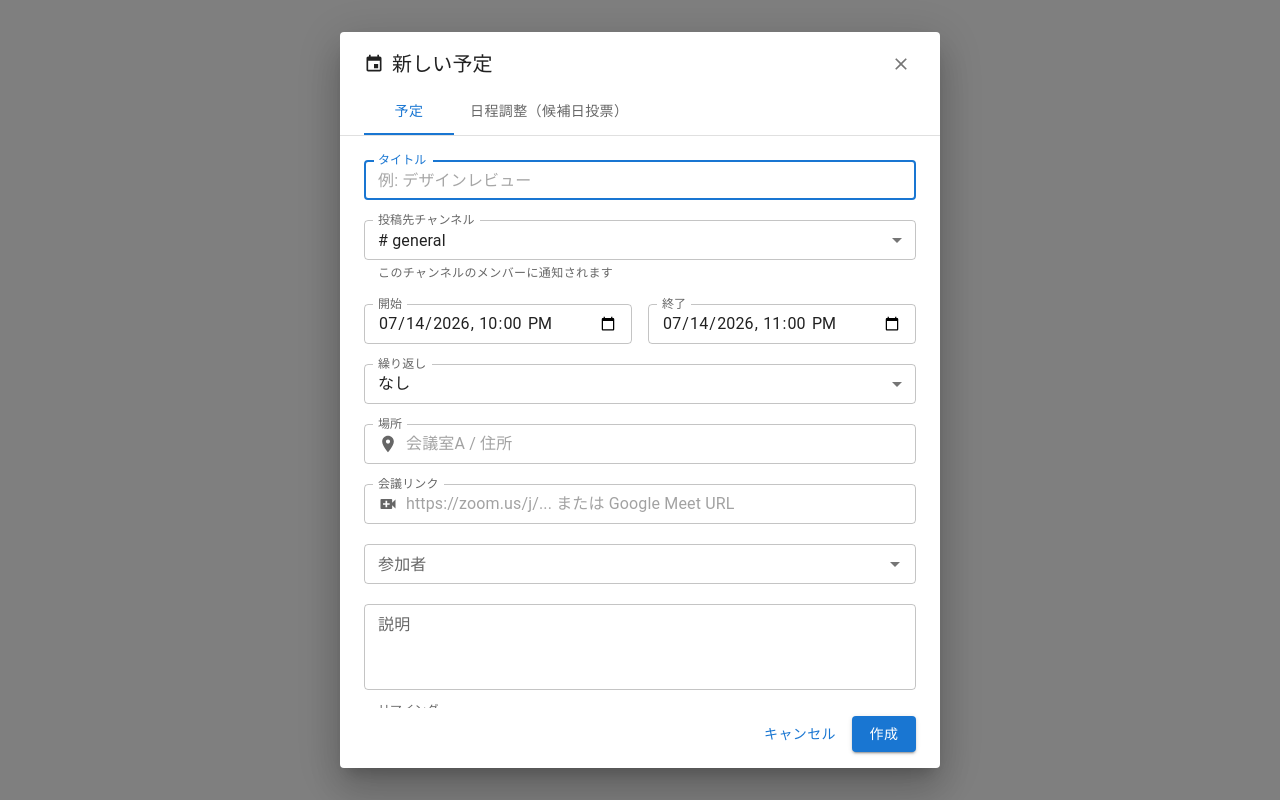
EventDialog › タブ切替 › 「日程調整」タブに切り替えると候補日リストと締切が表示される
Click the tab with aria-label "poll-tab". click: (549, 112)
box: [454,88,644,136]
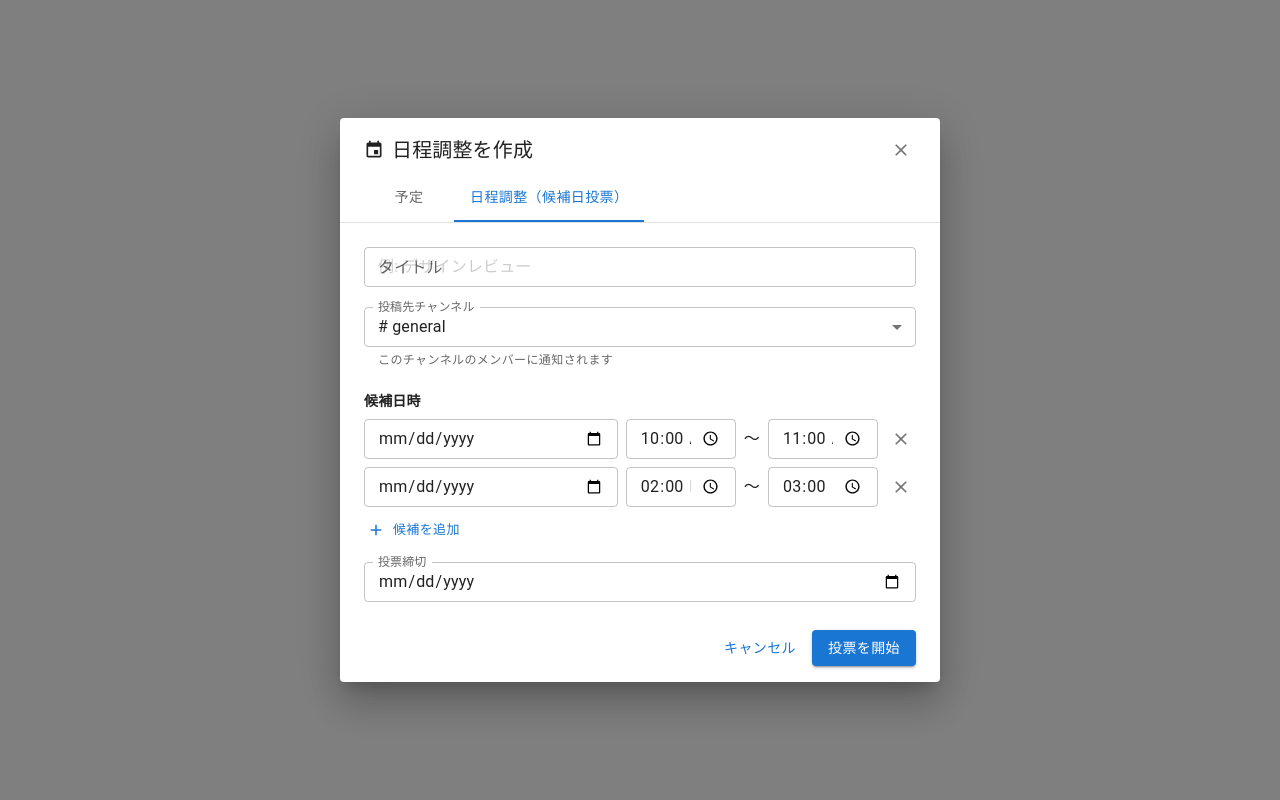
Expected: the date field named "poll-deadline" is shown, [364,562,916,602]
Expected: the date field named "poll-candidate-date-0" is shown, [364,419,618,459]
